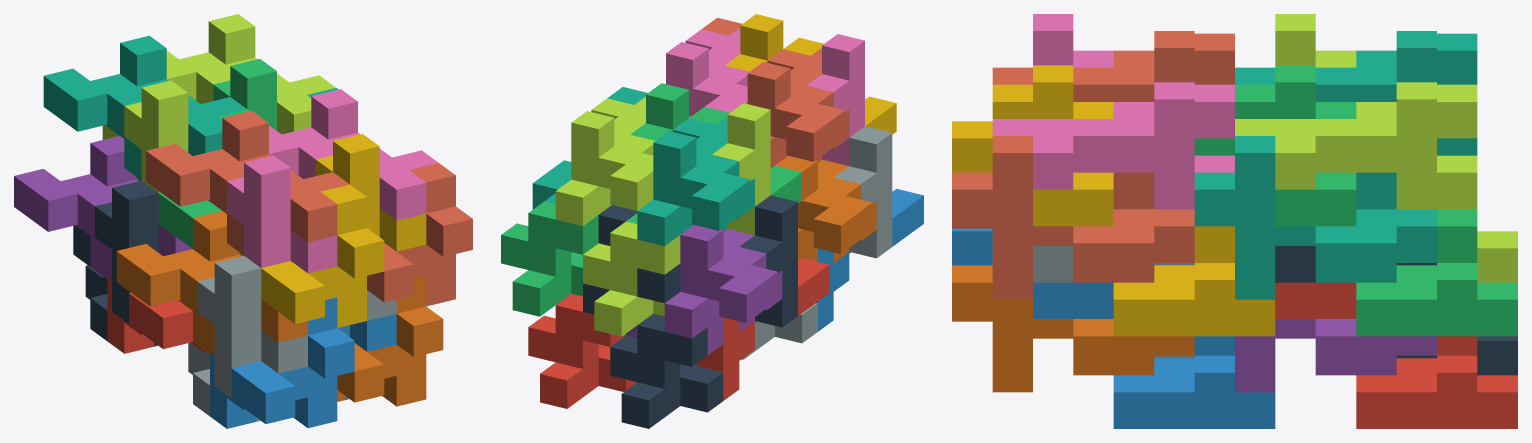
File: tiling.obj
3 renders of one model, left to right at view 1: azimuth 30°, elevation 25°; view 2: azimuth 150°, elevation 25°; view 3: azimuth 270°, elevation 25°, orthographic. The views are drawn at different scales.
Parts seen in each view (by area): view 1: copy_4_domain_4, copy_4_domain_2, copy_2_domain_2, copy_4_domain_8, copy_2_domain_4, copy_4_domain_6, copy_3_domain_3, copy_3_domain_4, copy_3_domain_2, copy_3_domain_1, copy_2_domain_8, copy_2_domain_1 (+18 smaller); view 2: copy_3_domain_1, copy_5_domain_1, copy_3_domain_3, copy_3_domain_7, copy_5_domain_7, copy_5_domain_5, copy_5_domain_3, copy_3_domain_4, copy_3_domain_2, copy_2_domain_2, copy_2_domain_1, copy_2_domain_3 (+21 smaller); view 3: copy_5_domain_7, copy_5_domain_8, copy_5_domain_5, copy_3_domain_7, copy_5_domain_6, copy_4_domain_8, copy_4_domain_7, copy_1_domain_8, copy_1_domain_7, copy_3_domain_8, copy_6_domain_8, copy_6_domain_7 (+21 smaller).
Boxes of the visible parts, left/top/right/bottom form: copy_4_domain_4: left=261, top=184, right=384, bottom=327; copy_4_domain_2: left=231, top=297, right=354, bottom=428; copy_2_domain_2: left=197, top=255, right=307, bottom=398; copy_4_domain_8: left=367, top=163, right=472, bottom=306; copy_2_domain_4: left=227, top=155, right=337, bottom=273; copy_4_domain_6: left=337, top=275, right=443, bottom=406; copy_3_domain_3: left=43, top=35, right=166, bottom=138; copy_3_domain_4: left=146, top=111, right=268, bottom=213; copy_3_domain_2: left=116, top=211, right=239, bottom=354; copy_3_domain_1: left=14, top=136, right=136, bottom=278; copy_2_domain_8: left=315, top=134, right=426, bottom=251; copy_2_domain_1: left=95, top=180, right=158, bottom=323; copy_3_domain_1: left=664, top=225, right=777, bottom=354; copy_5_domain_1: left=610, top=313, right=723, bottom=428; copy_3_domain_3: left=637, top=131, right=750, bottom=246; copy_3_domain_7: left=555, top=111, right=654, bottom=226; copy_5_domain_7: left=501, top=201, right=598, bottom=316; copy_5_domain_5: left=528, top=294, right=636, bottom=408; copy_5_domain_3: left=583, top=221, right=680, bottom=336; copy_3_domain_4: left=747, top=62, right=844, bottom=168; copy_3_domain_2: left=775, top=156, right=872, bottom=261; copy_2_domain_2: left=834, top=126, right=892, bottom=258; copy_2_domain_1: left=739, top=195, right=797, bottom=327; copy_2_domain_3: left=712, top=103, right=770, bottom=235; copy_5_domain_7: left=1356, top=209, right=1517, bottom=336; copy_5_domain_8: left=1113, top=226, right=1275, bottom=336; copy_5_domain_5: left=1356, top=336, right=1517, bottom=428; copy_3_domain_7: left=1356, top=82, right=1477, bottom=209; copy_5_domain_6: left=1113, top=336, right=1275, bottom=428; copy_4_domain_8: left=952, top=136, right=1073, bottom=299; copy_4_domain_7: left=1194, top=136, right=1315, bottom=299; copy_1_domain_8: left=1073, top=172, right=1194, bottom=282; copy_1_domain_7: left=1315, top=172, right=1436, bottom=282; copy_3_domain_8: left=1113, top=82, right=1234, bottom=209; copy_6_domain_8: left=992, top=119, right=1154, bottom=189; copy_6_domain_7: left=1235, top=119, right=1396, bottom=189.
Bounding box in the file's own units: 9 × 9 × 14.
